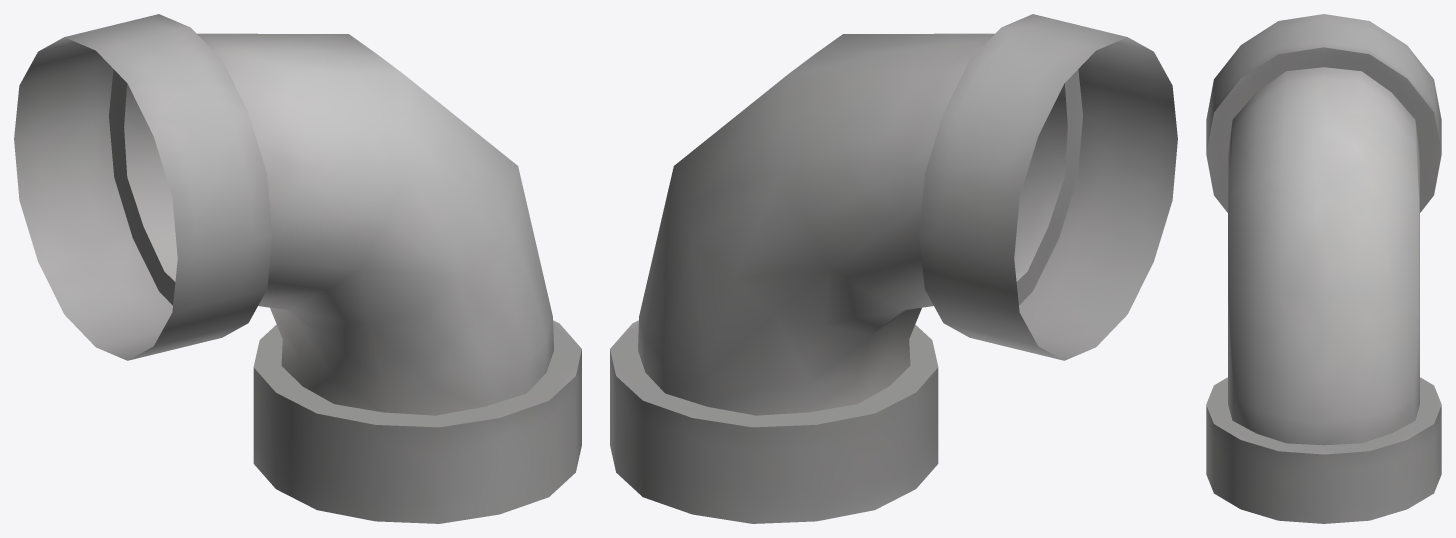
Rendered from Pipe3__2.fbx.
3 views of the same model, side by side, from view 1: azimuth 30°, elevation 25°; view 2: azimuth 150°, elevation 25°; view 3: azimuth 270°, elevation 25° (orthographic). The views are drawn at different scales.
Visible parts, largest first — view 1: Mat_Pipe_01 1; view 2: Mat_Pipe_01 1; view 3: Mat_Pipe_01 1.
Part boxes in pixels (box(x1,y1,x2,y2)): Mat_Pipe_01 1: box(14, 14, 581, 523); Mat_Pipe_01 1: box(610, 14, 1177, 523); Mat_Pipe_01 1: box(1206, 14, 1441, 523).
Size of the model in its own units: 0.5855 by 0.5822 by 0.3581.
1 material, 1 textured.
